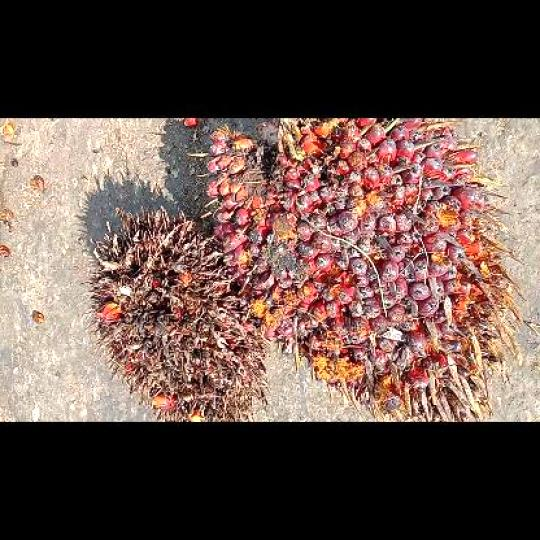masak: (187, 117, 524, 420)
terlalu masak: (81, 204, 268, 422)
